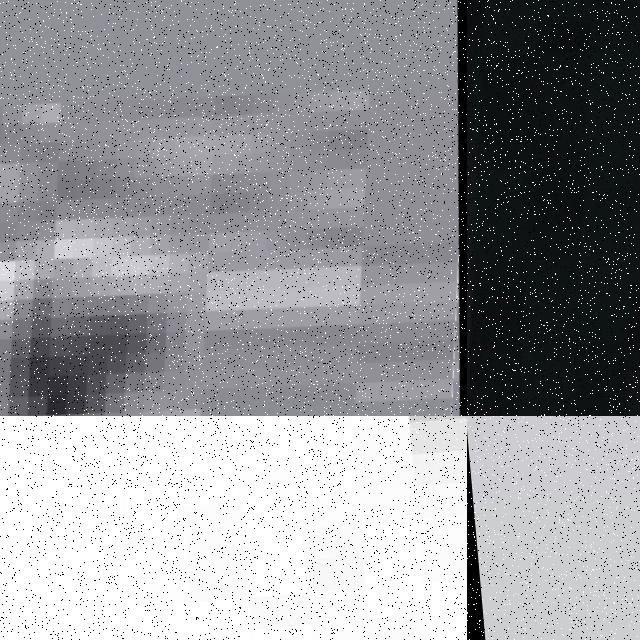0: (0, 0, 467, 416)
drone: (467, 0, 640, 416), (467, 416, 640, 640)
